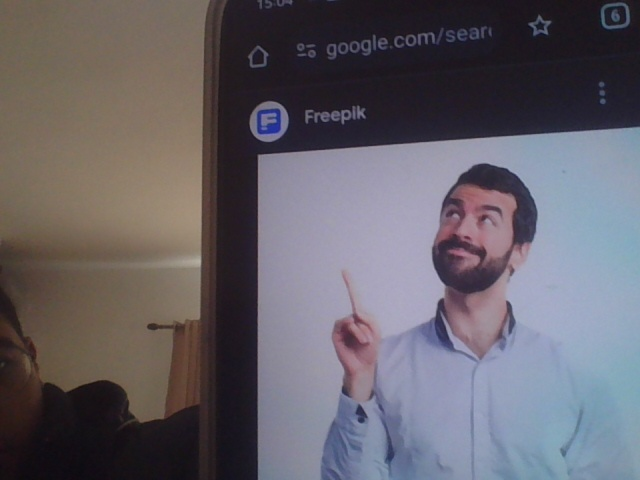fake: (430, 152, 528, 291)
